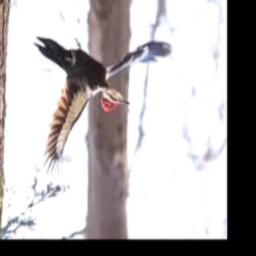Woodpecker: (34, 37, 172, 184)
